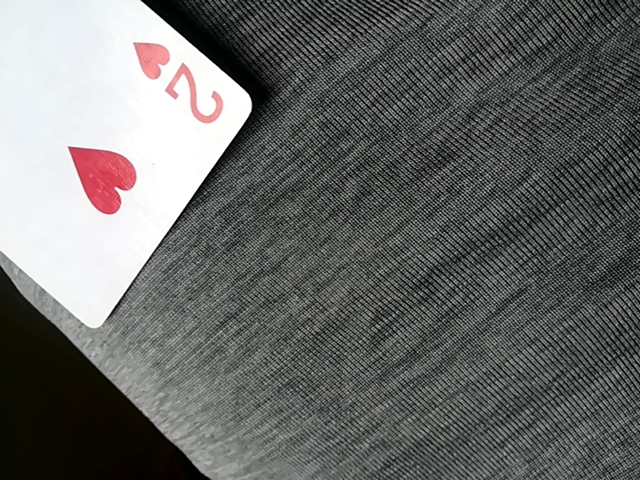hx 2: (0, 0, 261, 331)
